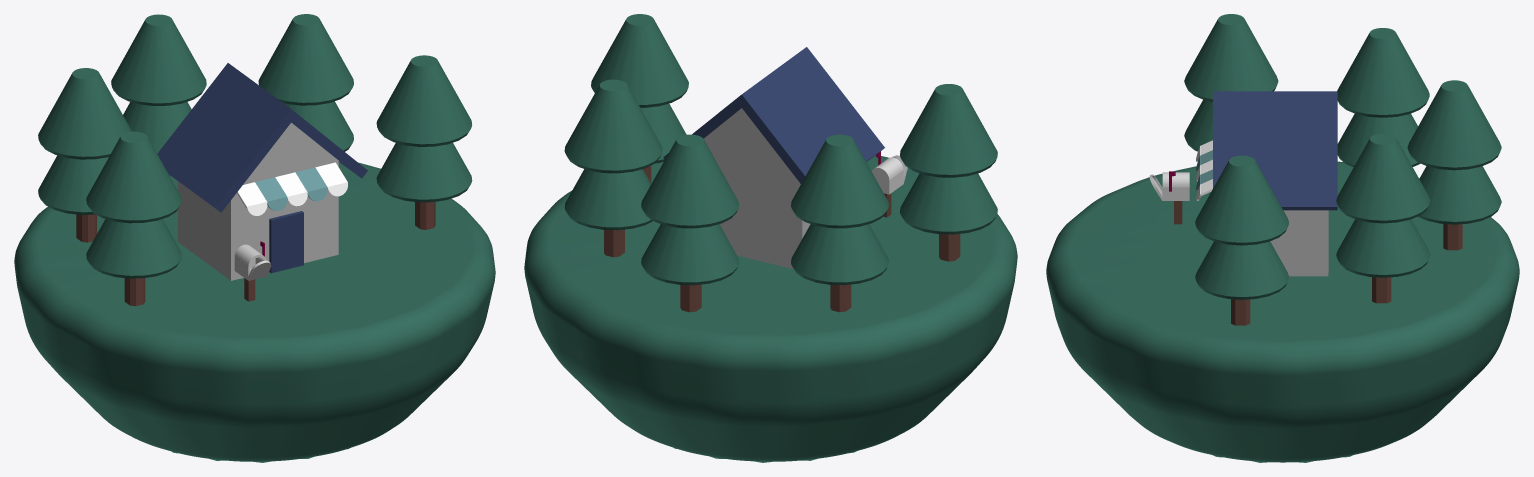
The model's file is housebigger.glb.
3 renders of one model, left to right at view 1: azimuth 30°, elevation 25°; view 2: azimuth 150°, elevation 25°; view 3: azimuth 270°, elevation 25°, orthographic. The views are drawn at different scales.
Parts seen in each view (by area): view 1: pCylinder6, roof, house, pCone7, pCone3, pCone9, pCone1, pCone5, pCone4, pCone8, pCone6, pCone10 (+11 smaller); view 2: pCylinder6, roof, house, pCone1, pCone5, pCone9, pCone7, pCone3, pCone8, pCone6, pCone10, pCone2 (+6 smaller); view 3: pCylinder6, roof, pCone1, pCone9, pCone3, pCone5, pCone7, pCone2, pCone4, pCone10, house, pCone6 (+5 smaller).
Part boxes in pixels (<box>): pCylinder6: <box>14,162,495,462</box>; roof: <box>157,63,367,212</box>; house: <box>178,122,339,280</box>; pCone7: <box>86,131,181,223</box>; pCone3: <box>376,55,471,146</box>; pCone9: <box>111,14,206,105</box>; pCone1: <box>258,14,353,105</box>; pCone5: <box>38,68,131,159</box>; pCone4: <box>376,142,472,202</box>; pCone8: <box>86,219,181,278</box>; pCone6: <box>38,155,108,214</box>; pCone10: <box>123,102,191,153</box>; pCylinder6: <box>524,155,1017,462</box>; roof: <box>663,47,884,183</box>; house: <box>704,108,810,269</box>; pCone1: <box>564,79,662,173</box>; pCone5: <box>791,134,888,228</box>; pCone9: <box>641,134,738,228</box>; pCone7: <box>900,84,997,177</box>; pCone3: <box>591,14,688,107</box>; pCone8: <box>900,173,997,234</box>; pCone6: <box>791,224,888,285</box>; pCone10: <box>641,224,738,285</box>; pCone2: <box>564,169,652,230</box>; pCylinder6: <box>1046,161,1519,462</box>; roof: <box>1213,91,1337,210</box>; pCone1: <box>1336,133,1430,223</box>; pCone9: <box>1407,80,1501,170</box>; pCone3: <box>1195,155,1288,245</box>; pCone5: <box>1337,28,1429,117</box>; pCone7: <box>1184,14,1278,101</box>; pCone2: <box>1336,219,1430,277</box>; pCone4: <box>1195,241,1288,299</box>; pCone10: <box>1418,166,1501,224</box>; house: <box>1270,210,1328,276</box>; pCone6: <box>1337,113,1420,167</box>.
Bounding box in the file's own units: 34.17 × 24.84 × 34.17.
